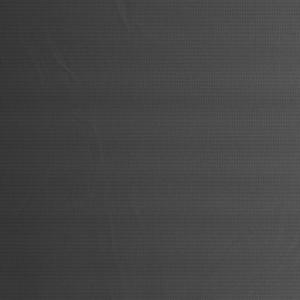Wrinkle: (84, 121, 131, 300), (15, 20, 88, 96), (108, 1, 160, 49)
